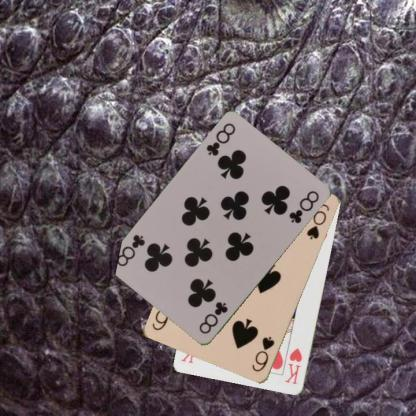6s: (249, 334, 276, 374)
8c: (203, 120, 237, 158), (196, 299, 230, 336)
Kh: (283, 346, 304, 386)
